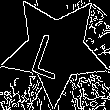L_N: (33, 21, 78, 79)
